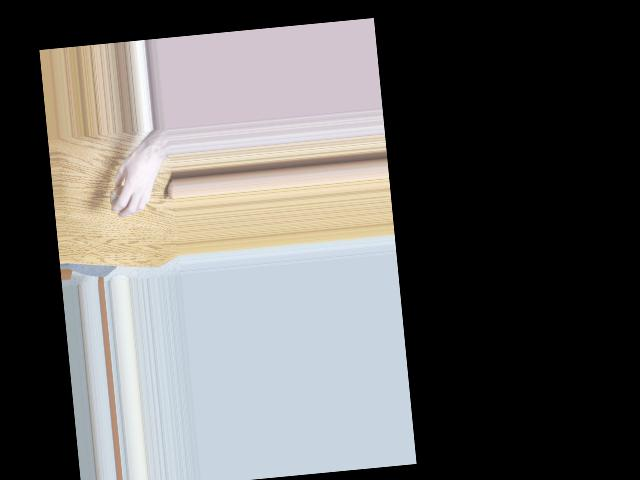onion: (107, 182, 136, 215)
